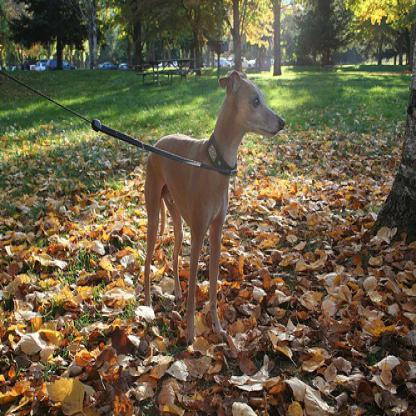dog: (142, 70, 286, 348)
